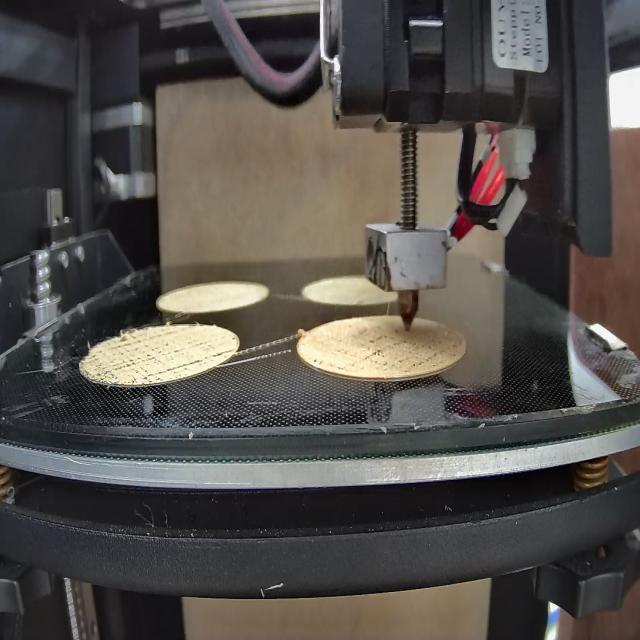under_extrusion: (93, 332, 205, 382), (308, 338, 460, 372), (210, 342, 236, 362)
